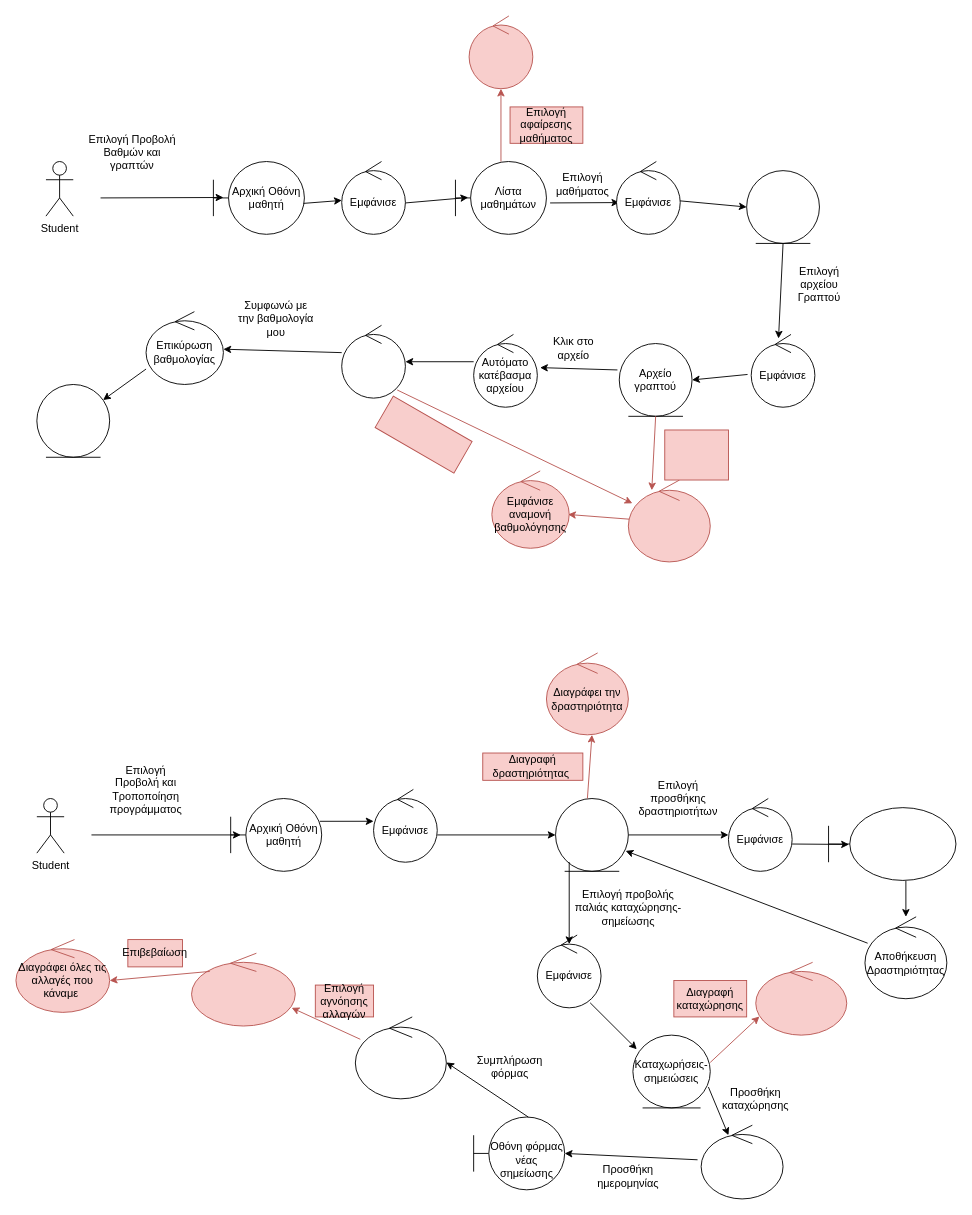
The diagram is 972 pixels wide and 1215 high, and some of its shapes have lost their labels. The centre of each missing label's shape, as x and y in pixels:
"Αφαίρεση από την λίστα" belongs at (500,52).
"Βαθμολογία" belongs at (73,420).
"Διαγράφει την καταχώρηση" belongs at (801,998).
"Διαφωνώ με την βαθμολογία μου" belongs at (423,434).
"Εβδομαδιαίο Πρόγραμμα" belongs at (591,834).
"Εμφάνισε επιλογές" belongs at (373,361).
"Εμφάνιση ημερομηνίας για την σημείωση" belongs at (741,1161).
"Εμφανίζει μήνυμα επιβεβαίωσης για διαγραφή" belongs at (243,989).
"Επιλογή πρόβλημα με το αρχείο" belongs at (696,454).
"Μάθημα" belongs at (782,206).
"Μη οριστικοποίηση του βαθμού" belongs at (668,520).
"Οθόνη φόρμας νέας δραστηριότητας" belongs at (892,843).
"Ολοκλήρωση και αποθήκευση σημείωσης" belongs at (400,1057).
